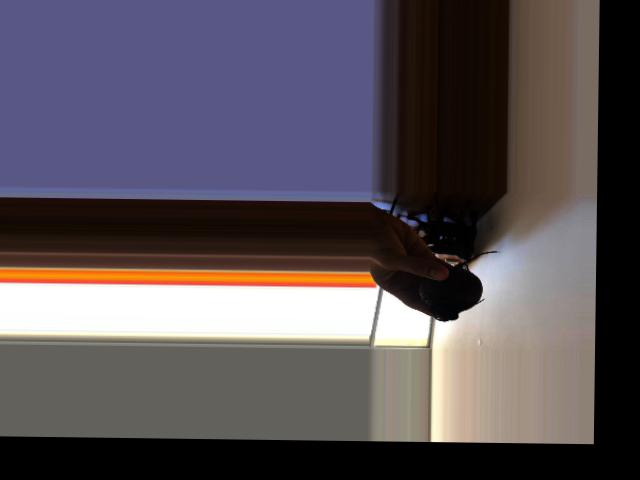beet: (419, 249, 500, 322)
